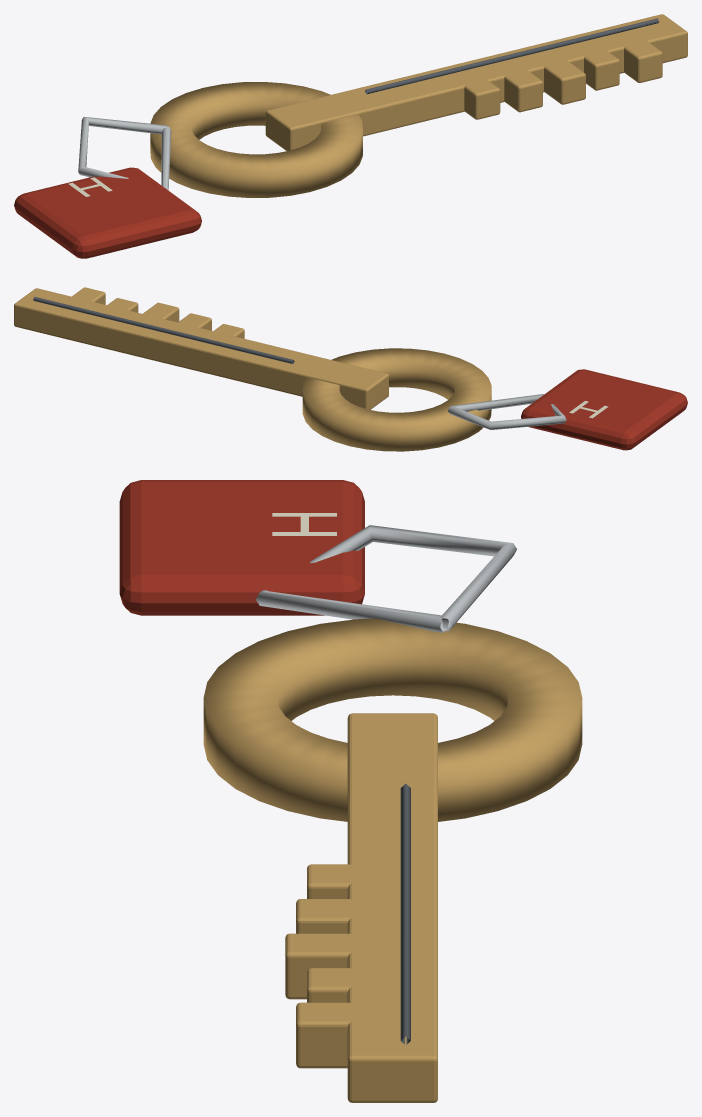
Rendered from hospital_key.glb.
3 views of the same model, one above another, from view 1: azimuth 30°, elevation 25°; view 2: azimuth 150°, elevation 25°; view 3: azimuth 270°, elevation 25° (orthographic). The views are drawn at different scales.
Visible parts, largest first — view 1: hospital_key; view 2: hospital_key; view 3: hospital_key.
Part boxes in pixels (x1=…): hospital_key: x1=14, y1=14, x2=687, y2=258; hospital_key: x1=14, y1=287, x2=687, y2=451; hospital_key: x1=119, y1=480, x2=582, y2=1102.
Bounding box in the file's own units: 0.3215 × 0.0207 × 0.1075.
